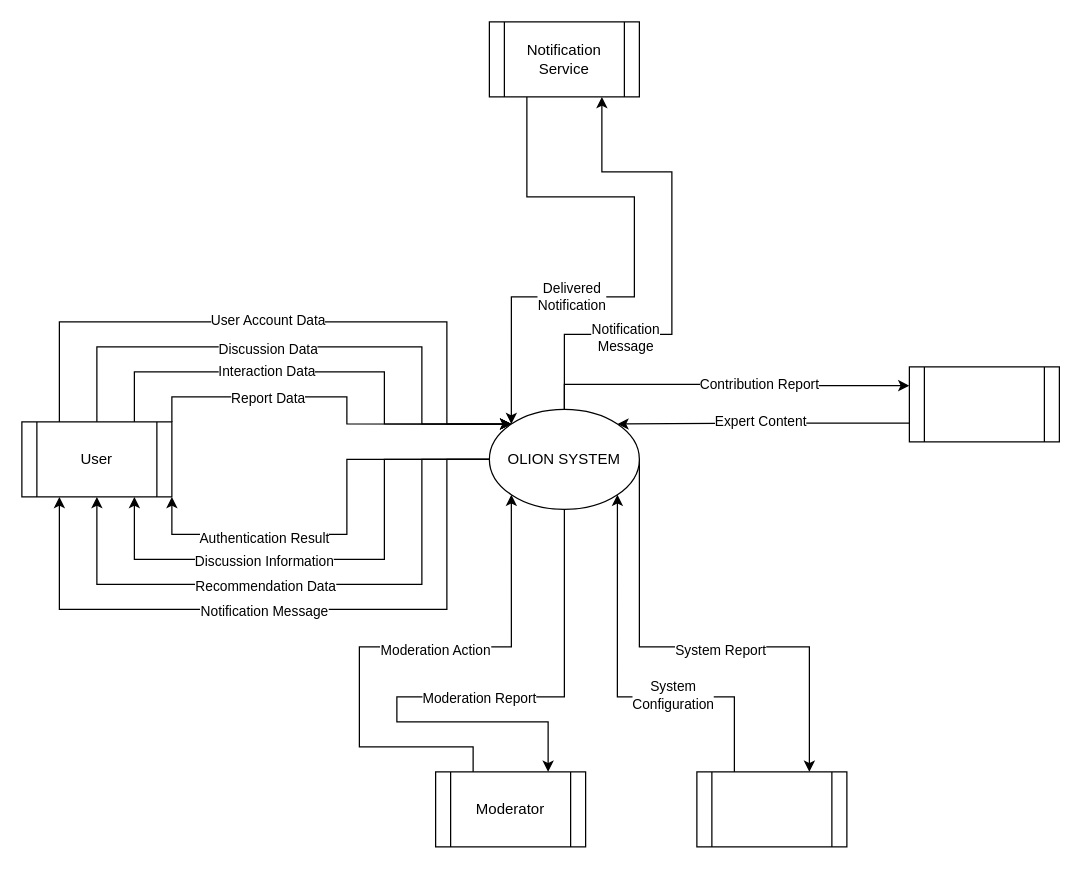
This 1081x869 diagram has some shape labels left out. The shapes that lost their labels are listed below. From the top down, each one's centre as x and y in pixels, then its label:
At point 983,404: "Pakar".
At point 771,809: "Administrator".
